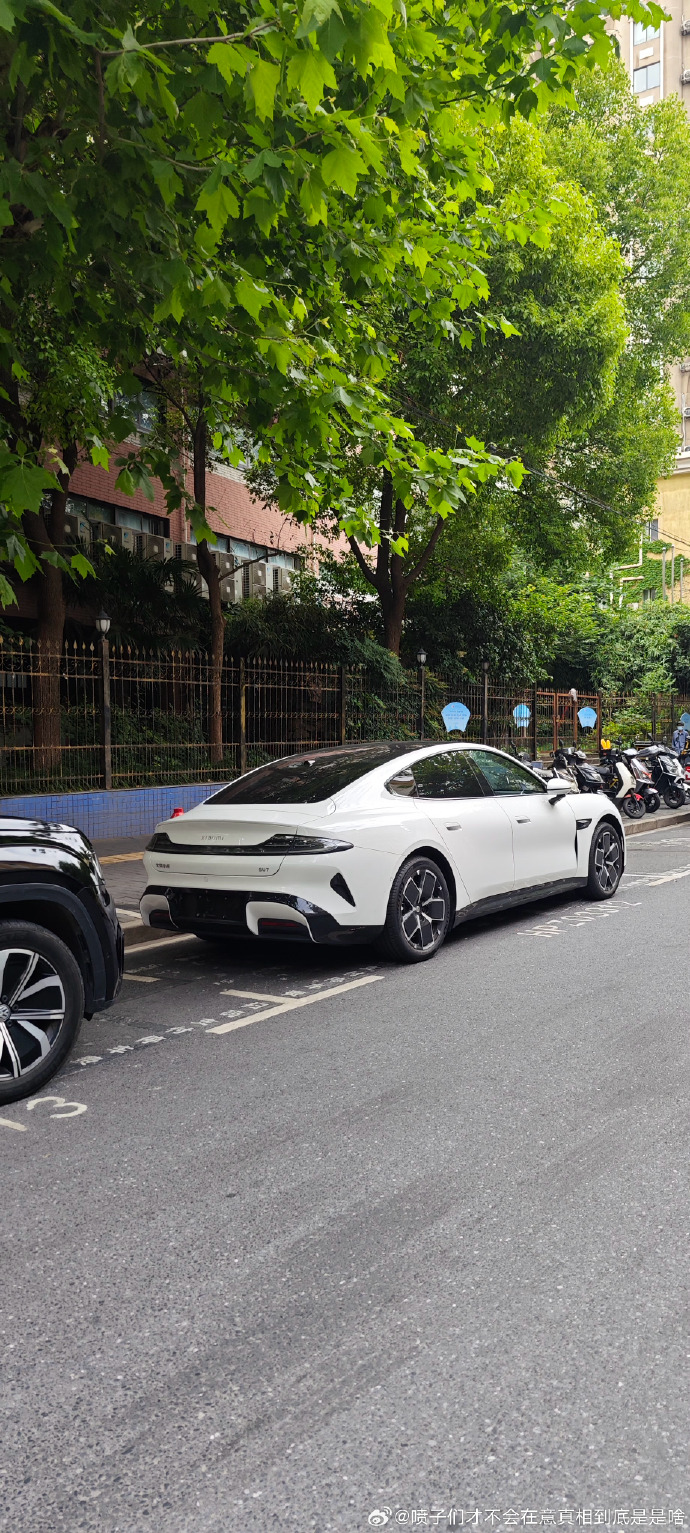su7: (139, 734, 631, 959)
